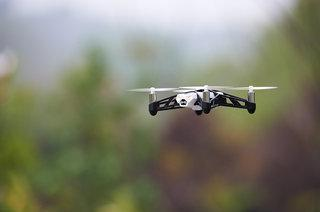UAV: (147, 84, 260, 119)
